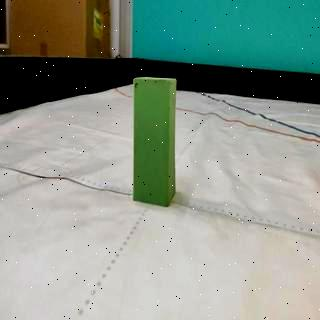greenbox: (134, 78, 176, 208)
